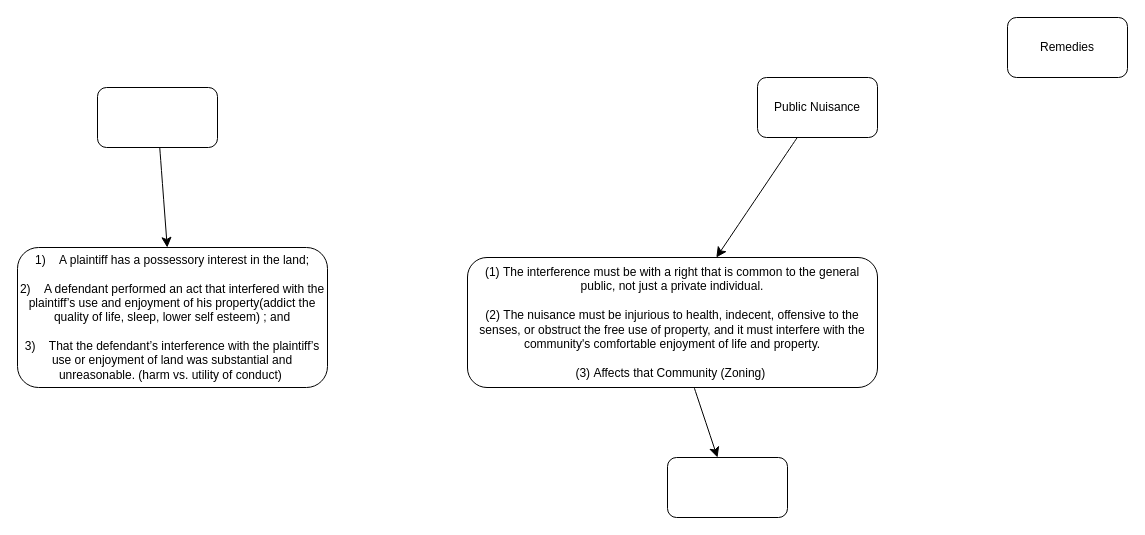
The diagram is 1145 pixels wide and 535 high, and some of its shapes have lost their labels. The centre of each missing label's shape, as x and y in pixels:
"Exception: not agg" goes at (727,487).
"Private Nuisance" goes at (157,117).
